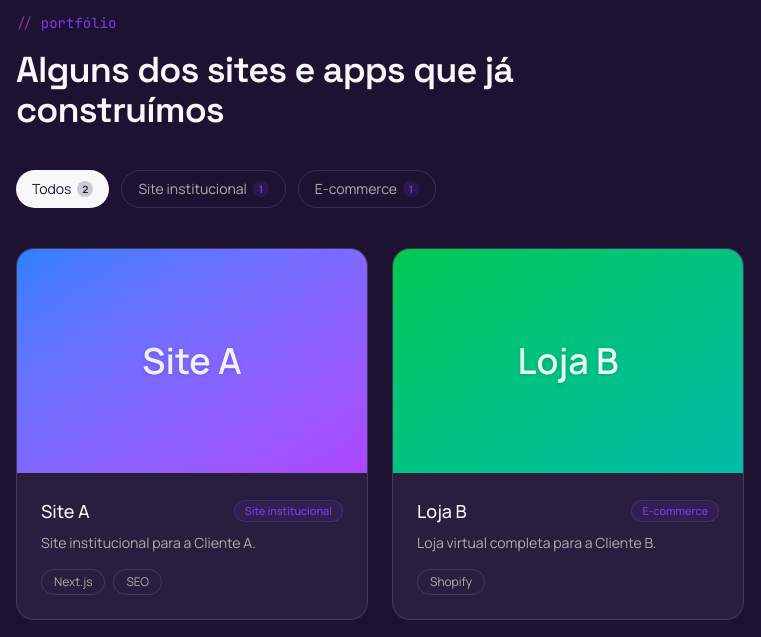
Scenario: Projects - filtro de categorias › ao clicar em uma categoria, mostra só os projetos daquela categoria
Click the button "E-commerce 1". click: (367,189)
box: [298,170,436,208]
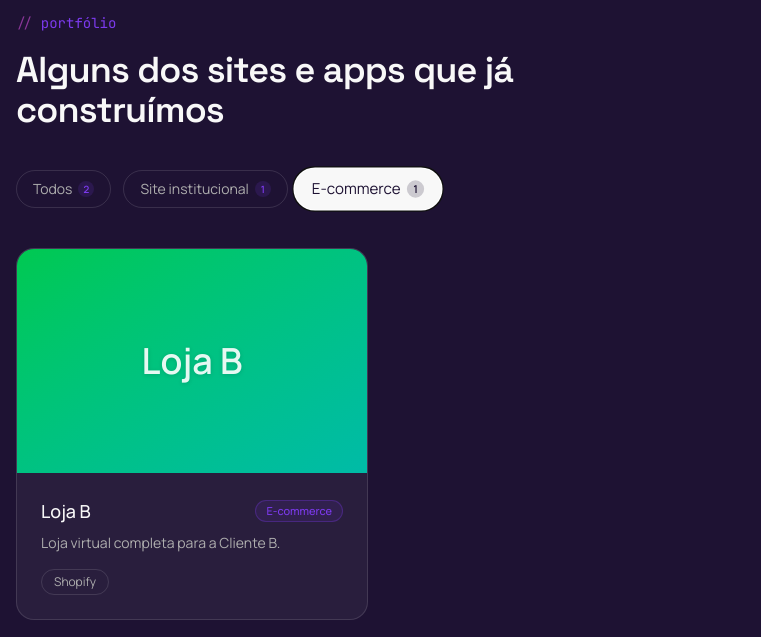
Expected: the heading "Loja B" is shown, [41,497,91,525]
Expected: the link "Site A" is gone
